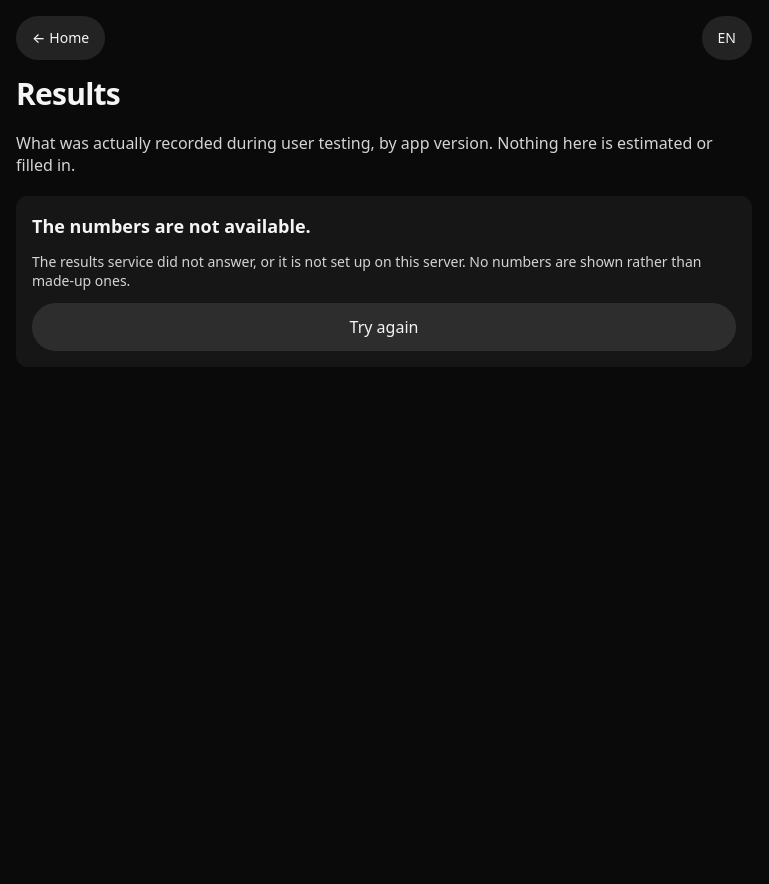
Scenario: StatsView › shows no numbers at all when the service is unavailable, and can try again
The image size is (769, 884).
Expected: the heading "The numbers are not available." is shown, [32,214,311,238]
Expected: the text "Coaching sessions" is not shown
Click the button "Try again" at (384, 326), box [32,302,736,350]
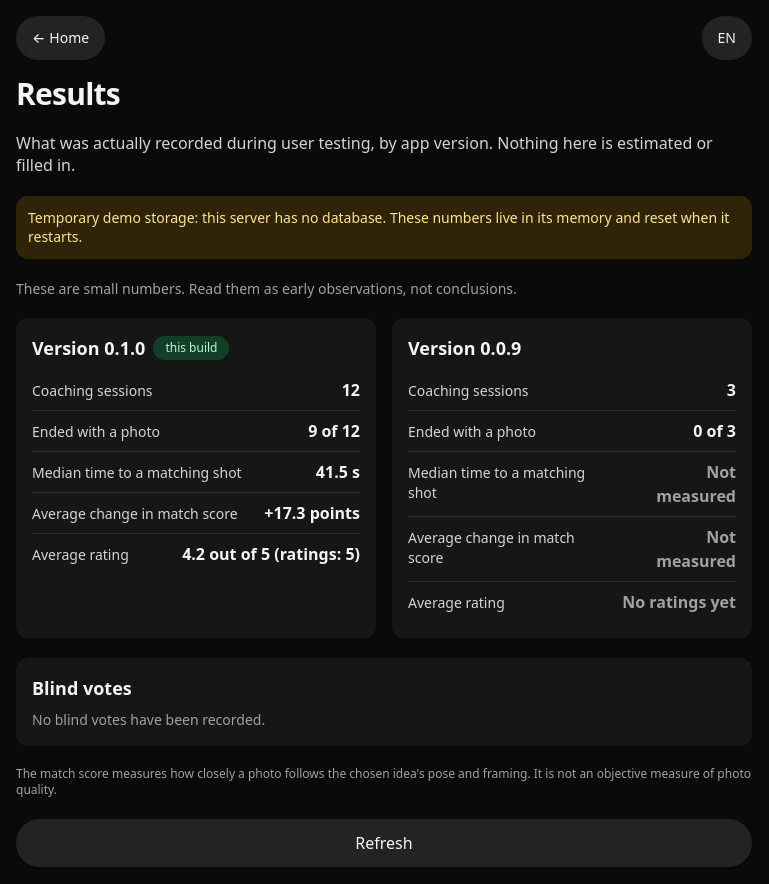
Expected: the heading "Version 0.1.0 this build" is shown, [32,336,230,360]
